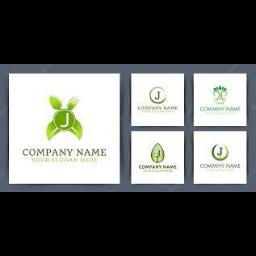j: (56, 110, 78, 134)
